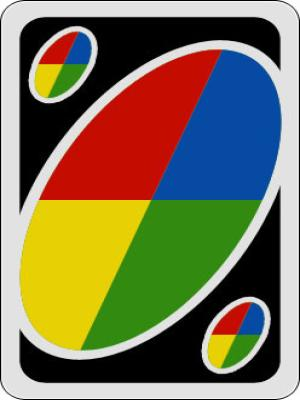wild: (14, 16, 281, 389), (26, 22, 100, 102), (207, 292, 272, 376)
